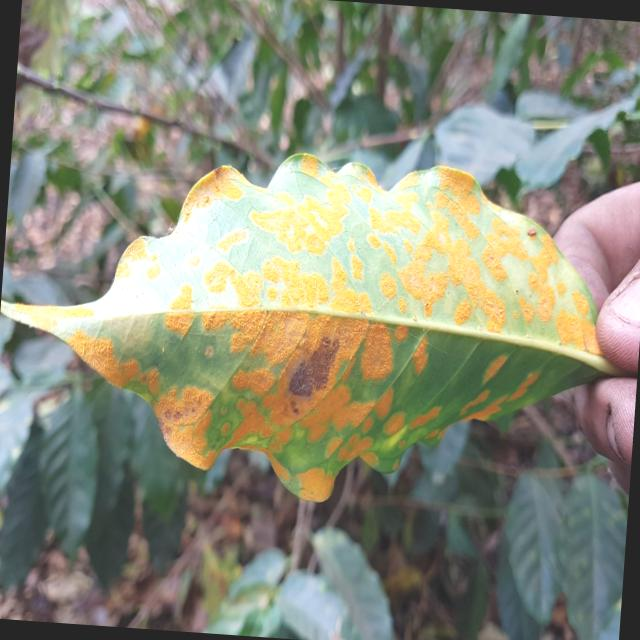leaf_rust: (0, 154, 617, 500)
